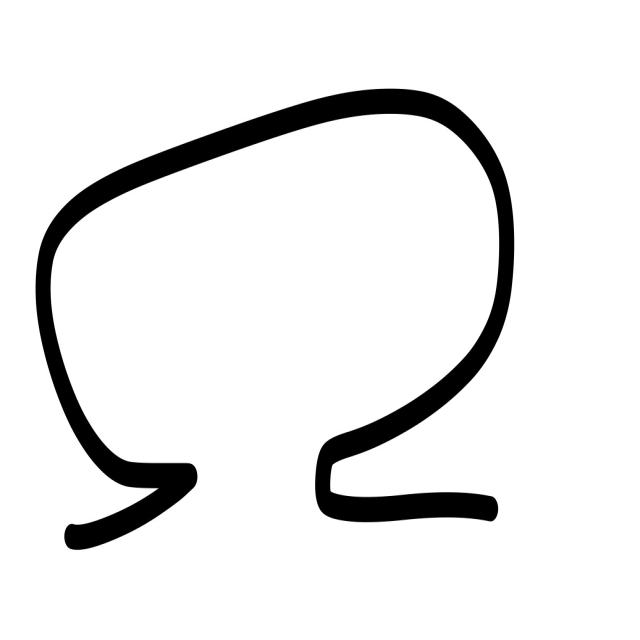ohms: (16, 46, 551, 575)
